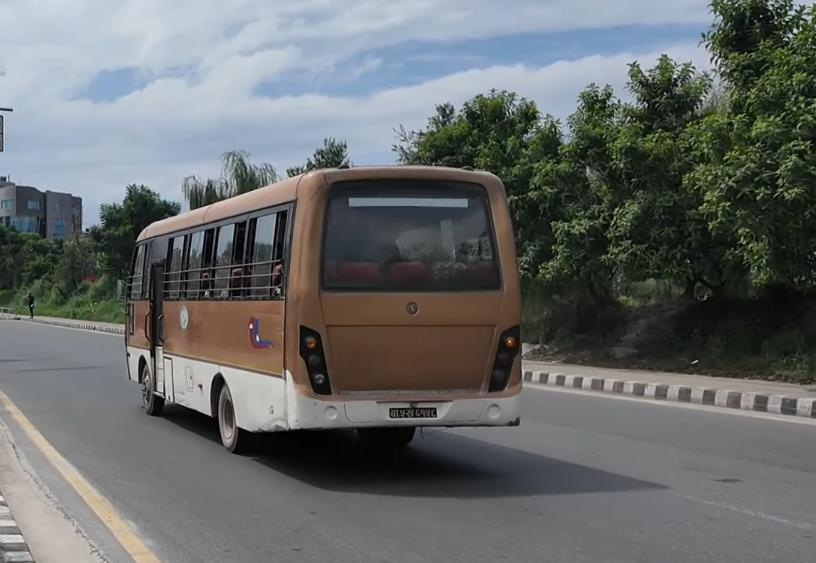bus: (127, 157, 524, 446)
